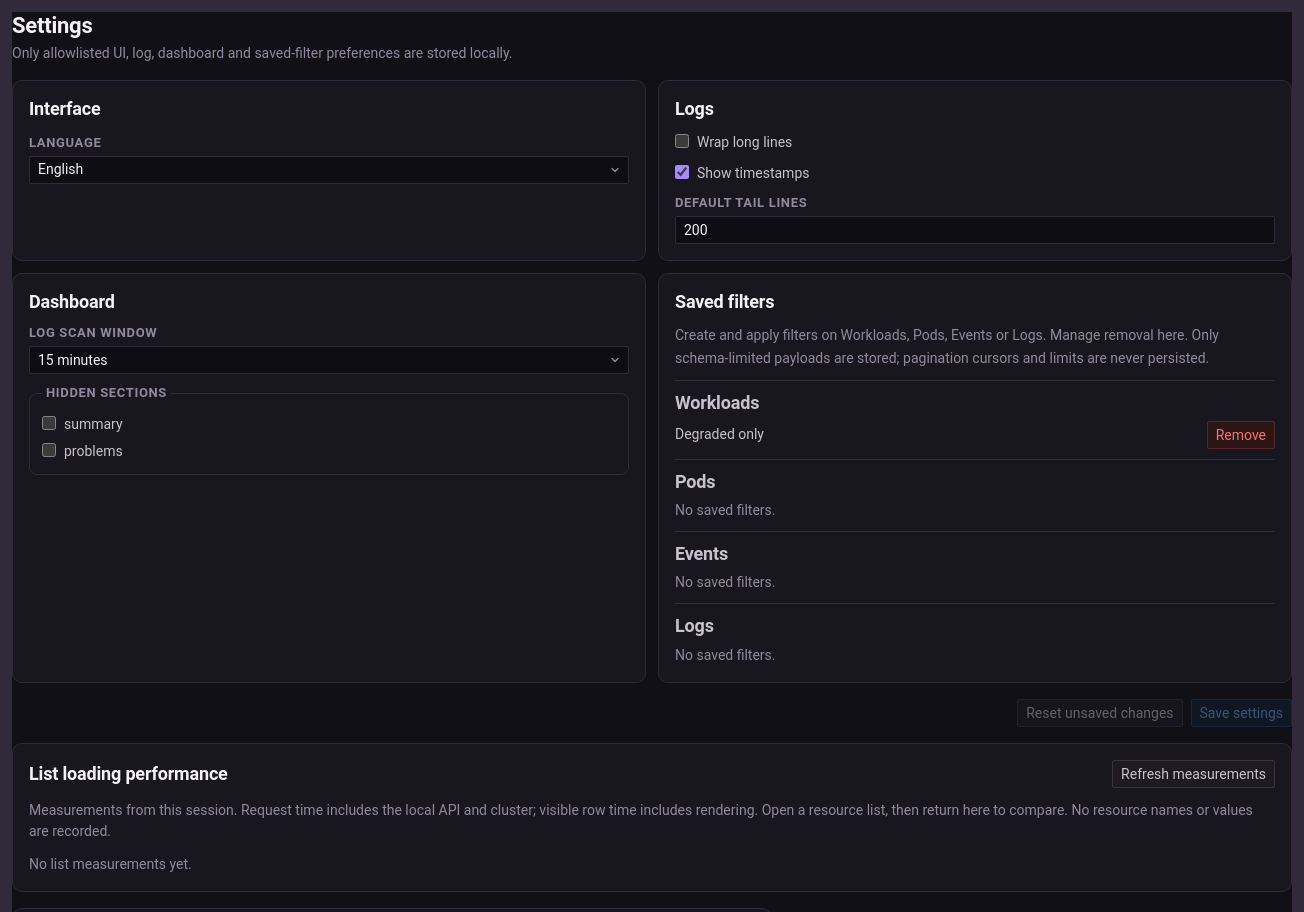
Scenario: allowlisted settings › disables no-op reset/save controls with reasons and restores a changed draft
The image size is (1304, 912).
Check: the button "Reset unsaved changes" is disabled, box [1017,699,1182,727]
Check: the button "Save settings" is disabled, box [1190,699,1292,727]
Replace the text in the number field labelled "Default tail lines" with "350". click: (975,230)
box: [675,216,1275,244]
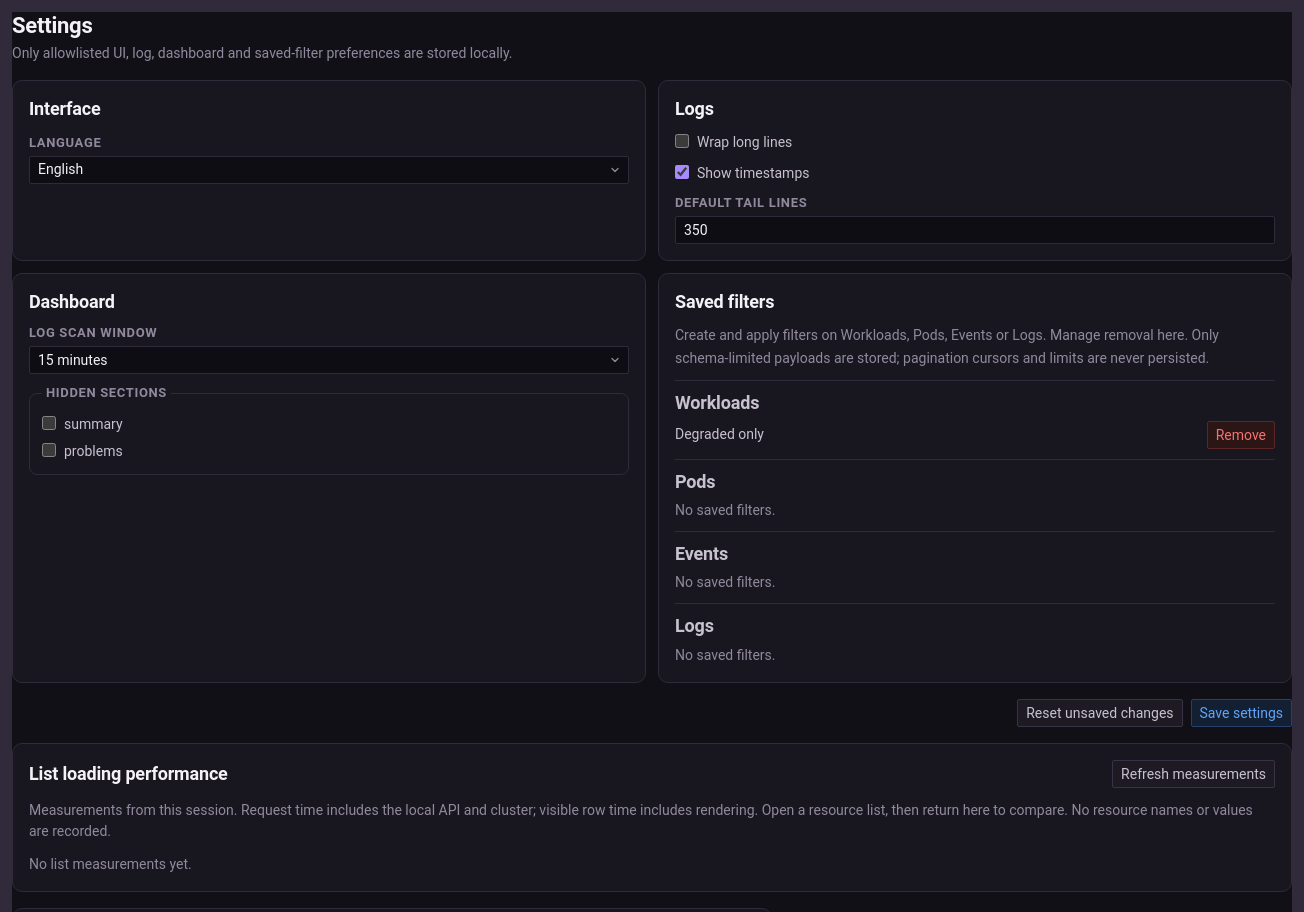
Check: the button "Reset unsaved changes" is enabled
Check: the button "Save settings" is enabled, box [1190,699,1292,727]
Click the button "Reset unsaved changes". click: (1100,713)
box: [1017,699,1182,727]
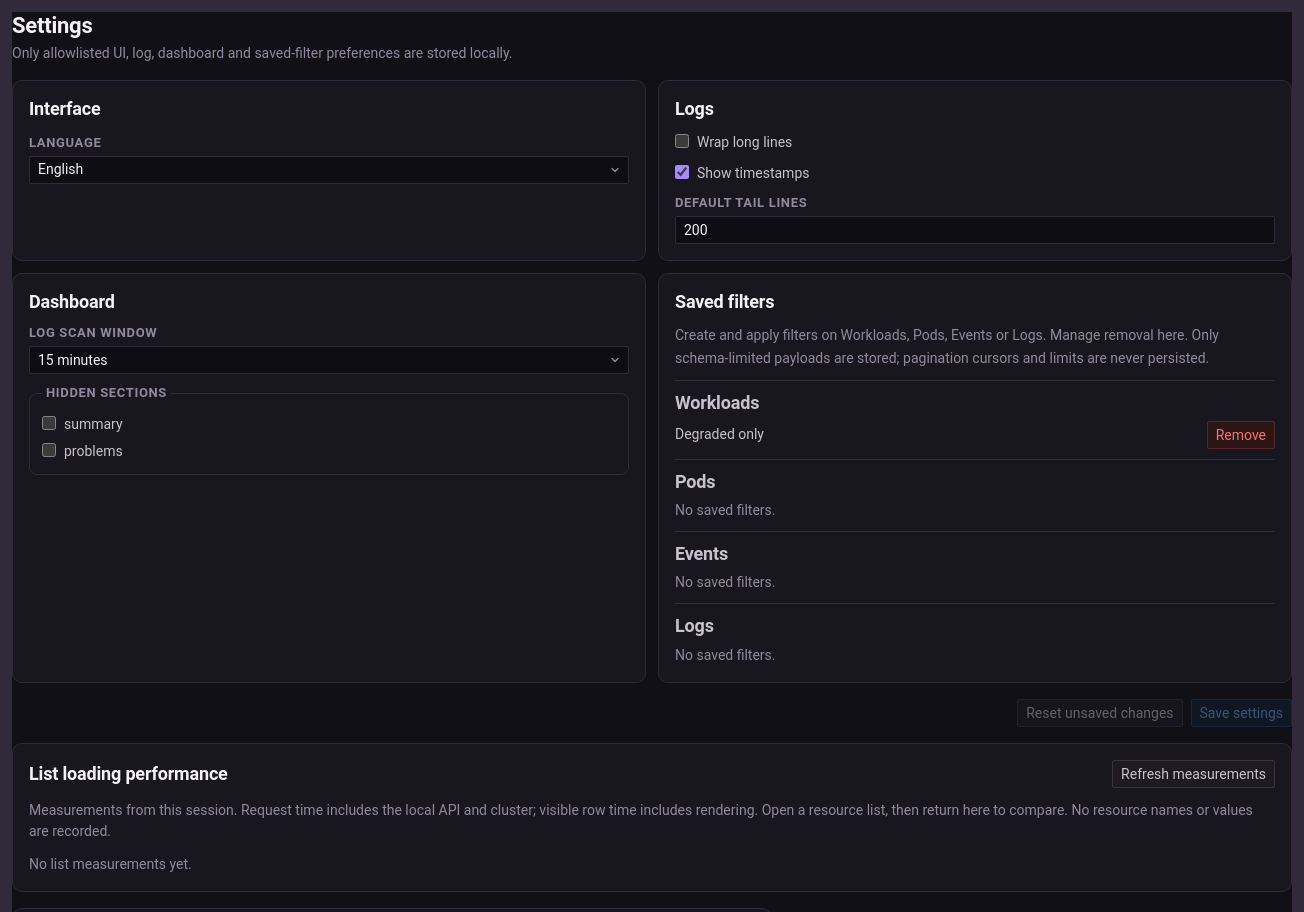
Check: the number field labelled "Default tail lines" holds "200", box [675,216,1275,244]
Check: the button "Reset unsaved changes" is disabled, box [1017,699,1182,727]
